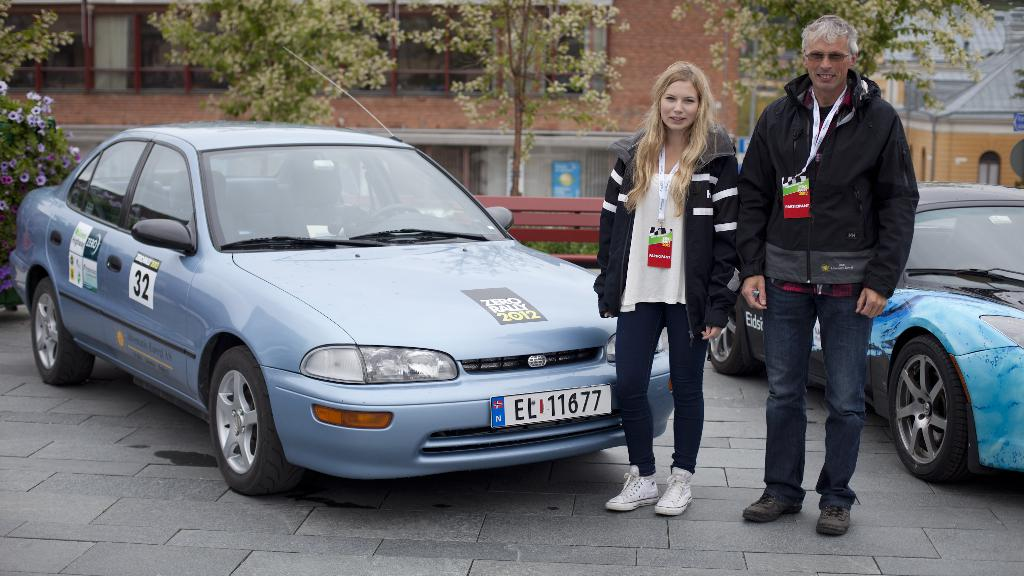cars: (6, 119, 677, 490), (703, 177, 1023, 482)
